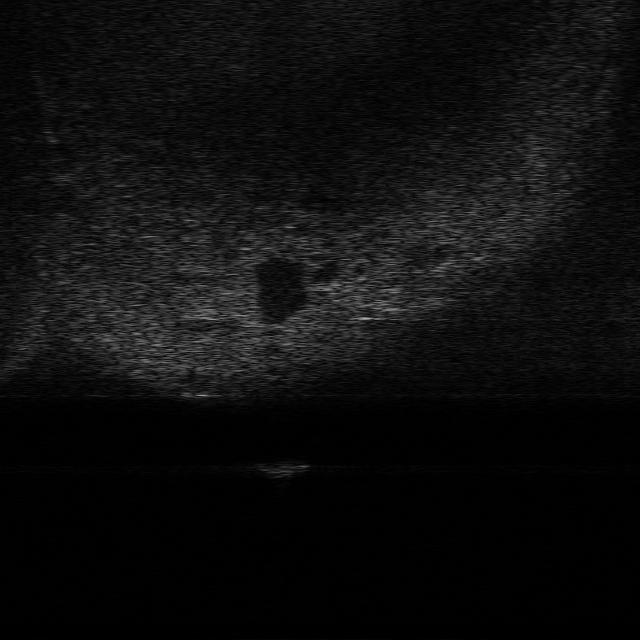cube: (258, 462, 314, 479)
